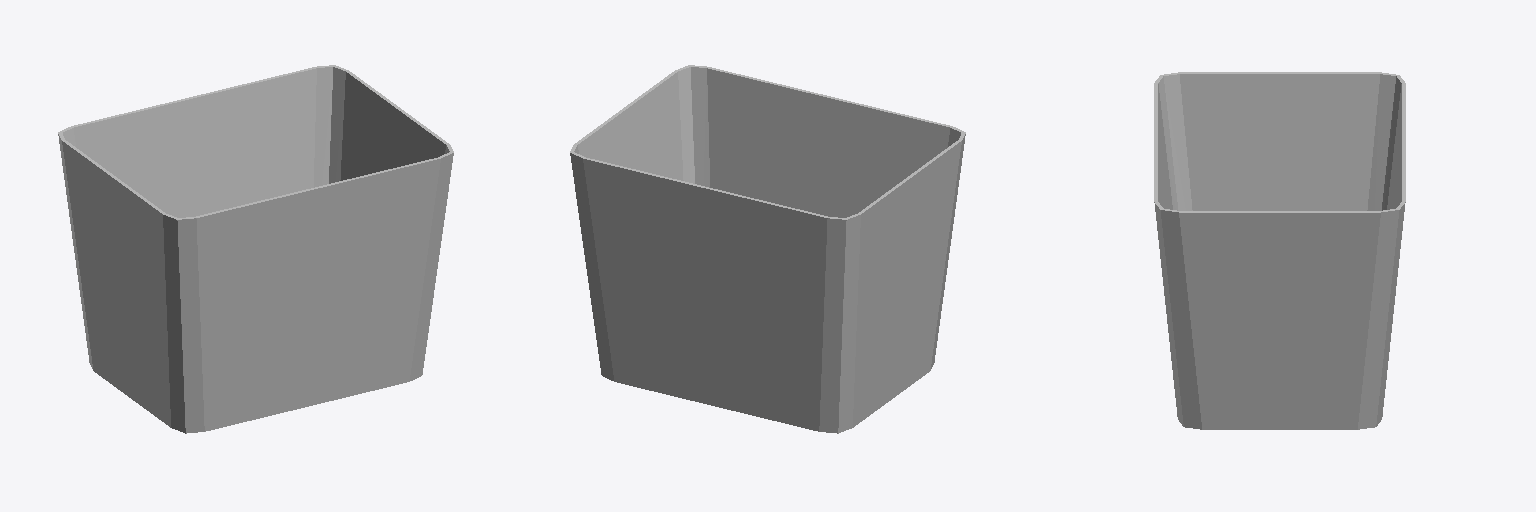
Rendered from garage_box_empty.obj.
The picture shows the model from 3 angles: view 1: azimuth 30°, elevation 25°; view 2: azimuth 150°, elevation 25°; view 3: azimuth 270°, elevation 25°; orthographic projection.
Visible parts, largest first — view 1: SM_GarageBoxEmpty; view 2: SM_GarageBoxEmpty; view 3: SM_GarageBoxEmpty.
Boxes of the visible parts, x1=… form: SM_GarageBoxEmpty: x1=58, y1=65, x2=453, y2=433; SM_GarageBoxEmpty: x1=570, y1=65, x2=965, y2=433; SM_GarageBoxEmpty: x1=1154, y1=72, x2=1405, y2=429.
Size of the model in its own units: 0.4631 by 0.35 by 0.3508.